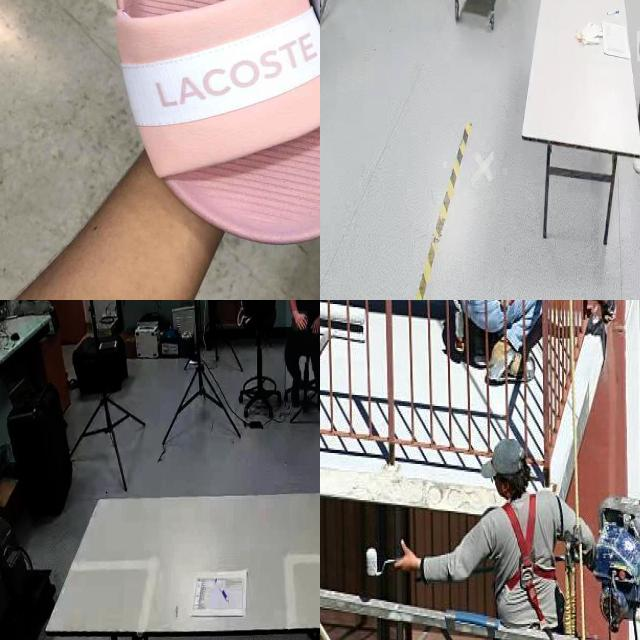Harness: (485, 498, 568, 634)
Sandals: (69, 0, 320, 257)
hand_noglove: (292, 311, 308, 331), (309, 314, 320, 335), (637, 31, 640, 62)
person: (286, 300, 320, 413)
shoes: (632, 126, 640, 176)
